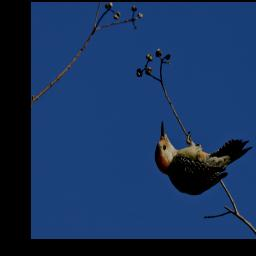Woodpecker: (146, 117, 256, 197)
